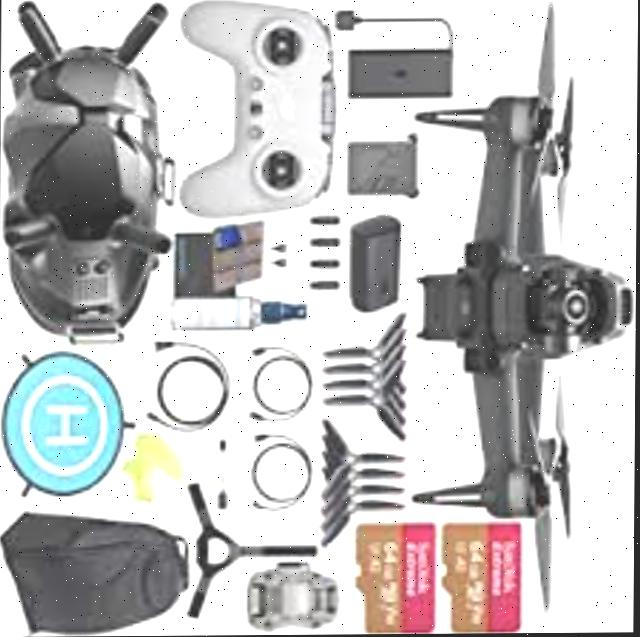drone: (375, 0, 638, 627)
